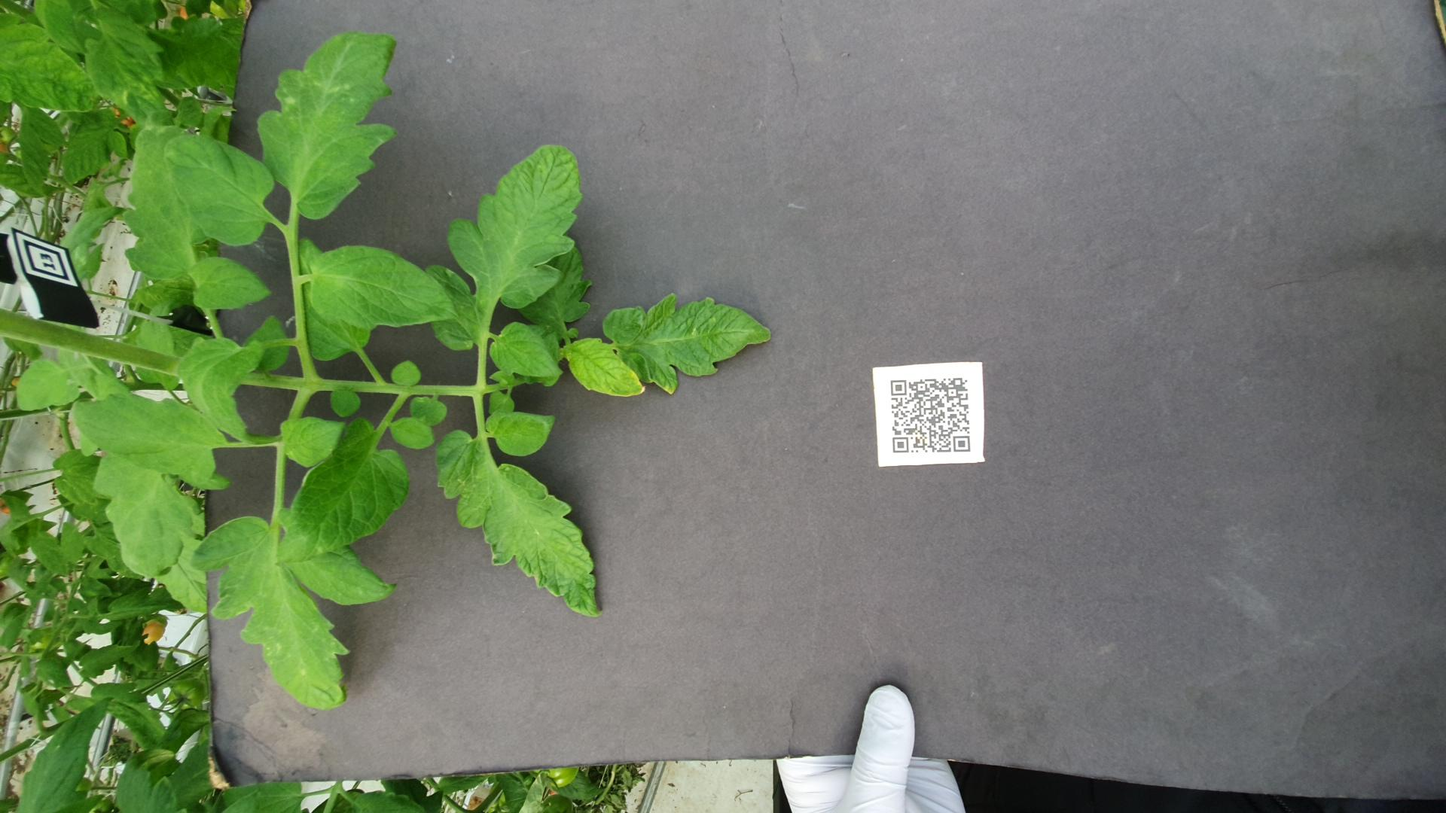Healthy: (348, 243, 713, 338), (439, 153, 706, 232), (568, 40, 751, 130), (856, 173, 1013, 258), (1003, 92, 1214, 153), (651, 99, 848, 156), (768, 274, 876, 317), (893, 107, 991, 154)
